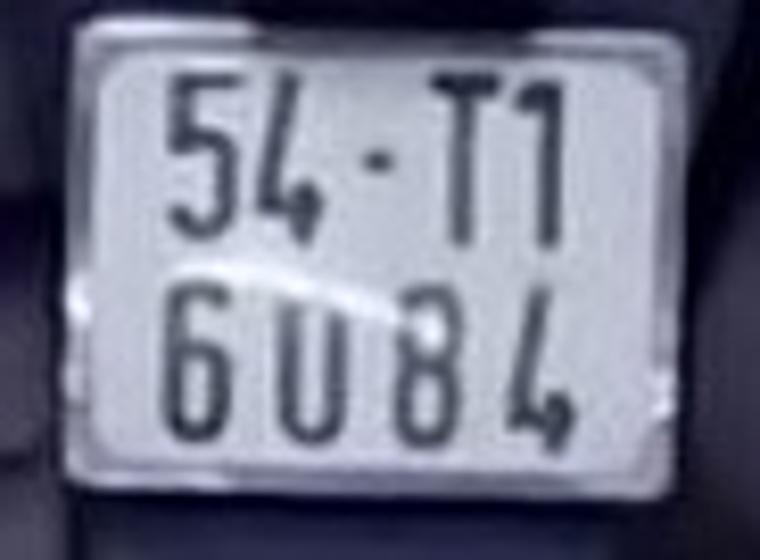-: (360, 150, 397, 176)
0: (274, 284, 356, 452)
1: (513, 71, 573, 256)
4: (249, 65, 340, 261), (495, 271, 582, 466)
5: (152, 66, 248, 252)
6: (153, 271, 237, 460)
8: (388, 286, 472, 453)
T: (419, 61, 505, 252)
